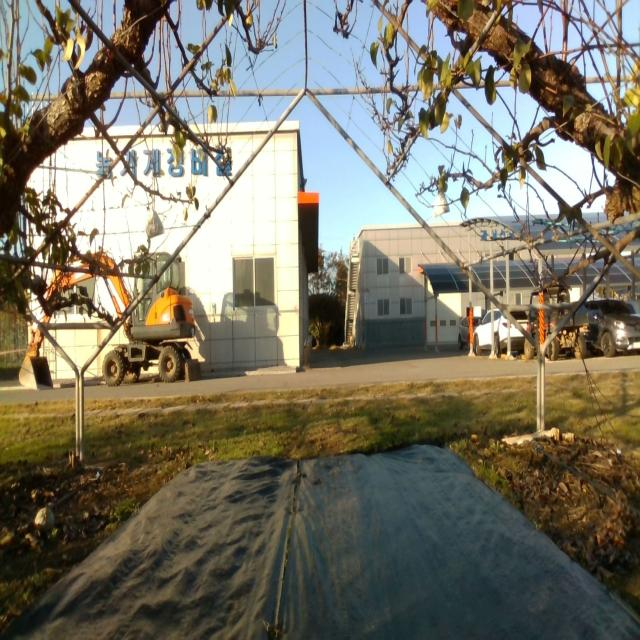pearbags: (146, 207, 165, 240), (432, 191, 450, 217)
